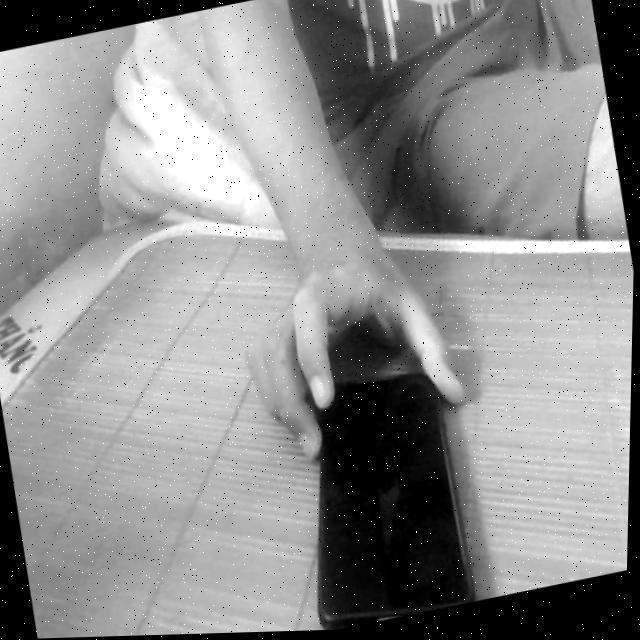phone: (272, 347, 505, 633)
